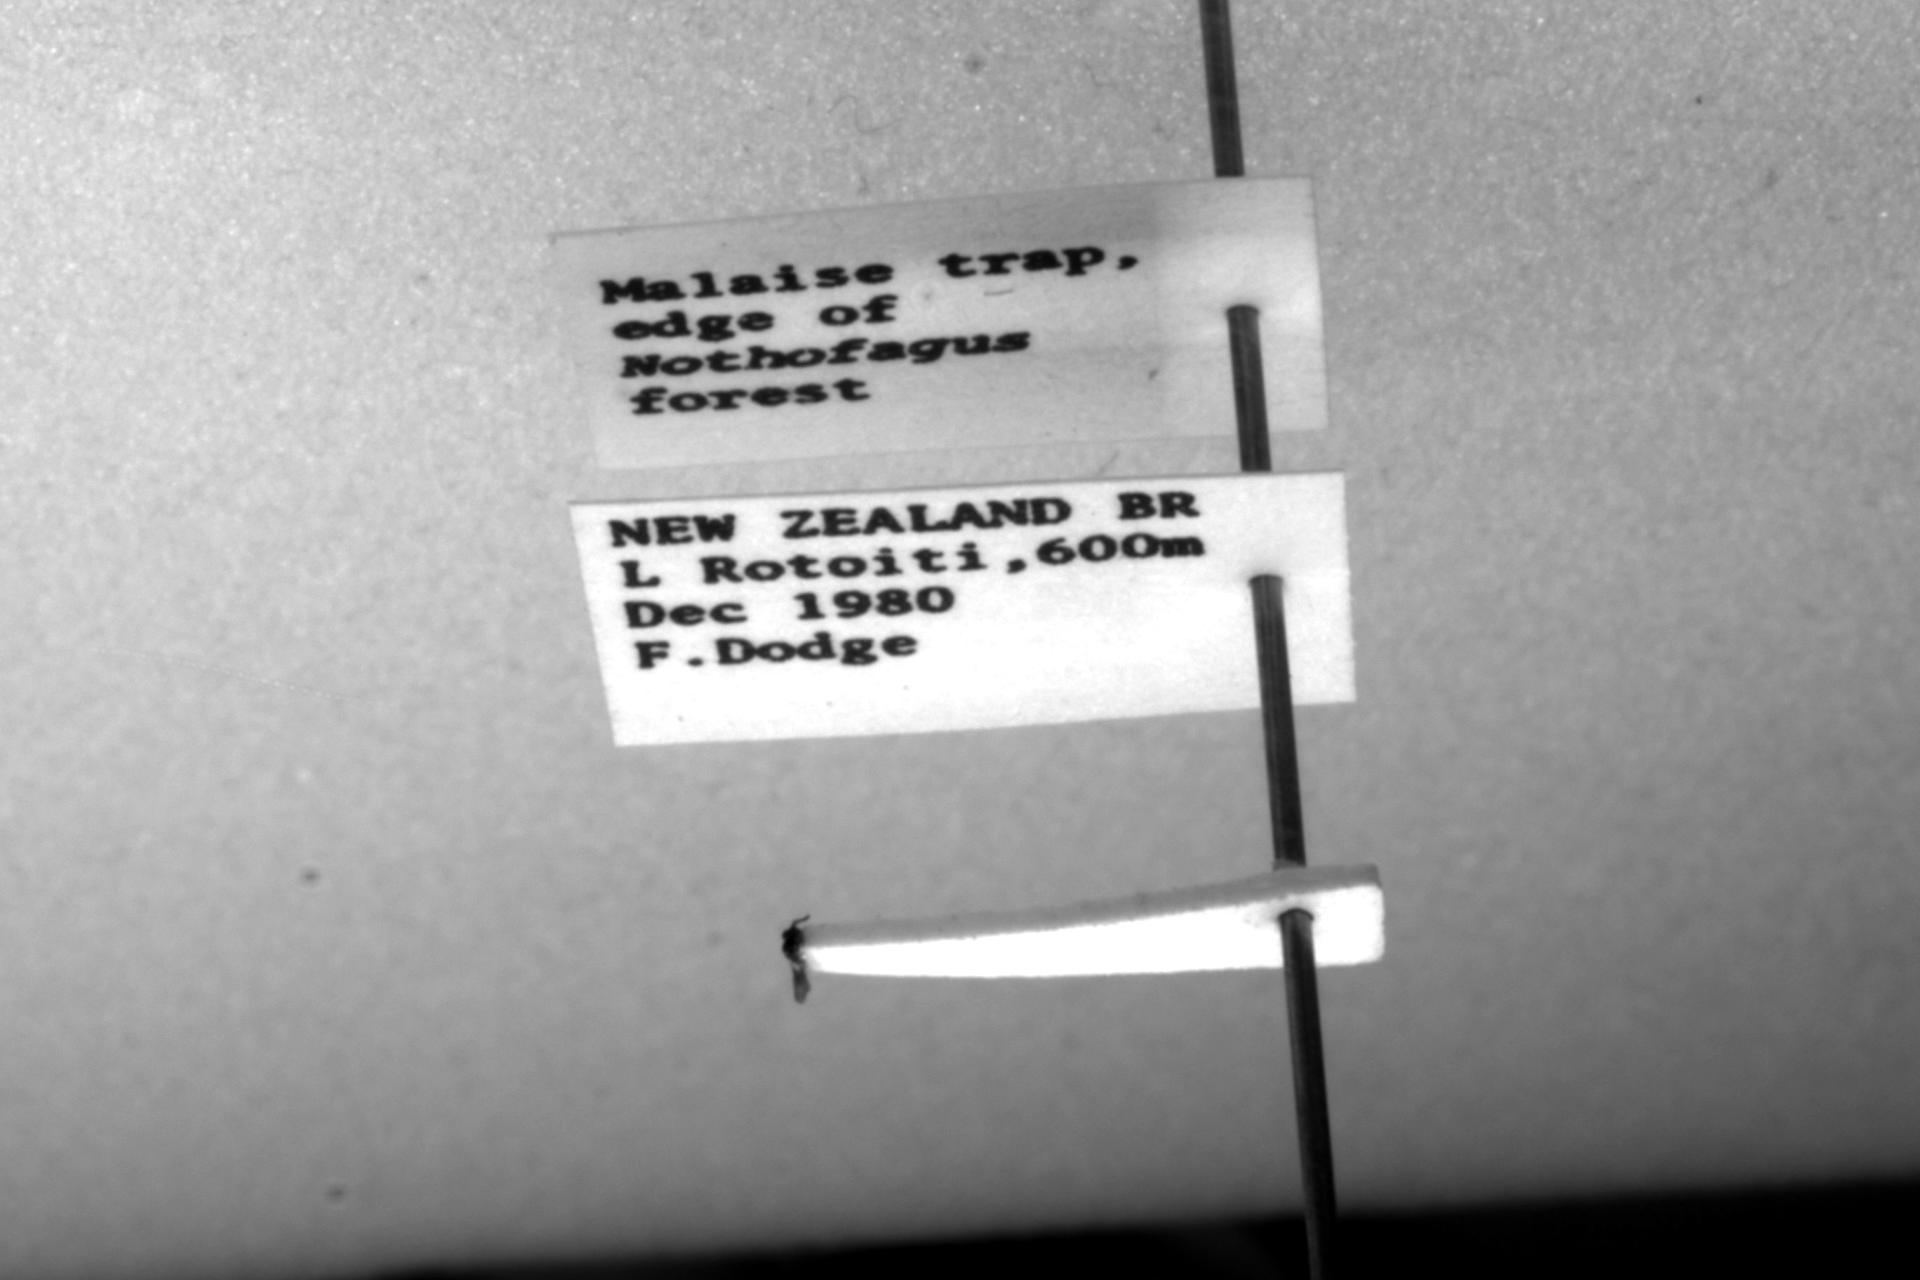typed_label: (554, 176, 1327, 469), (570, 473, 1354, 746)
